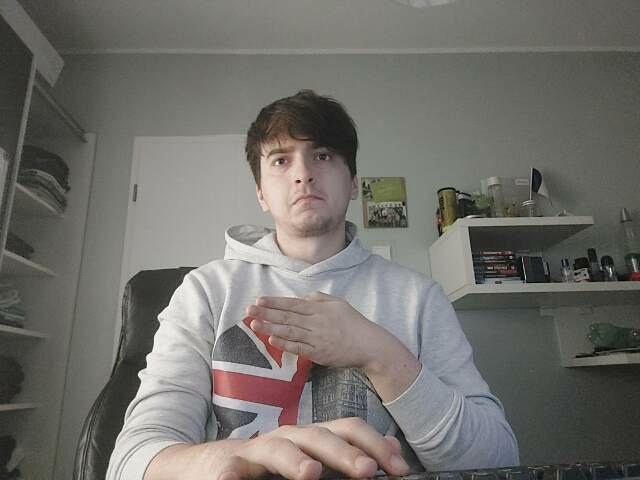please: (247, 289, 367, 370)
